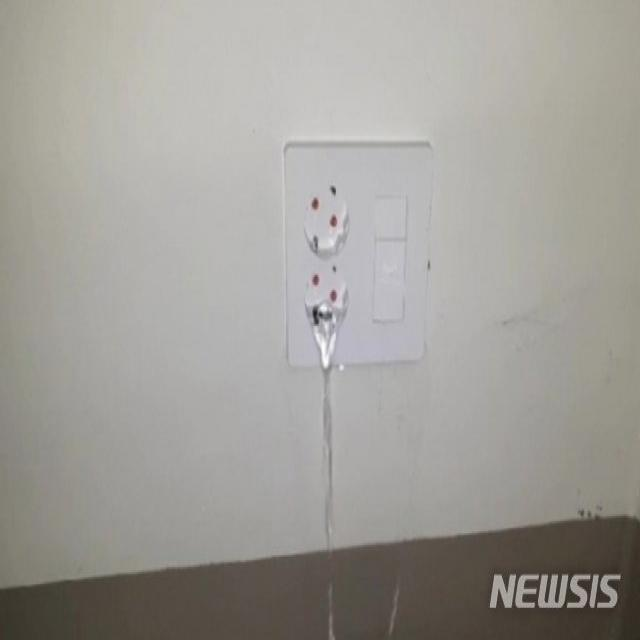typeb: (259, 125, 454, 394)
